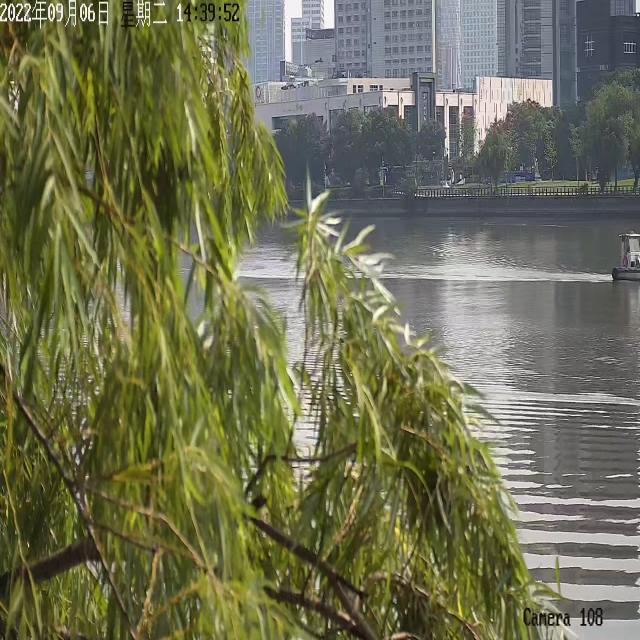ship: (612, 232, 640, 280)
